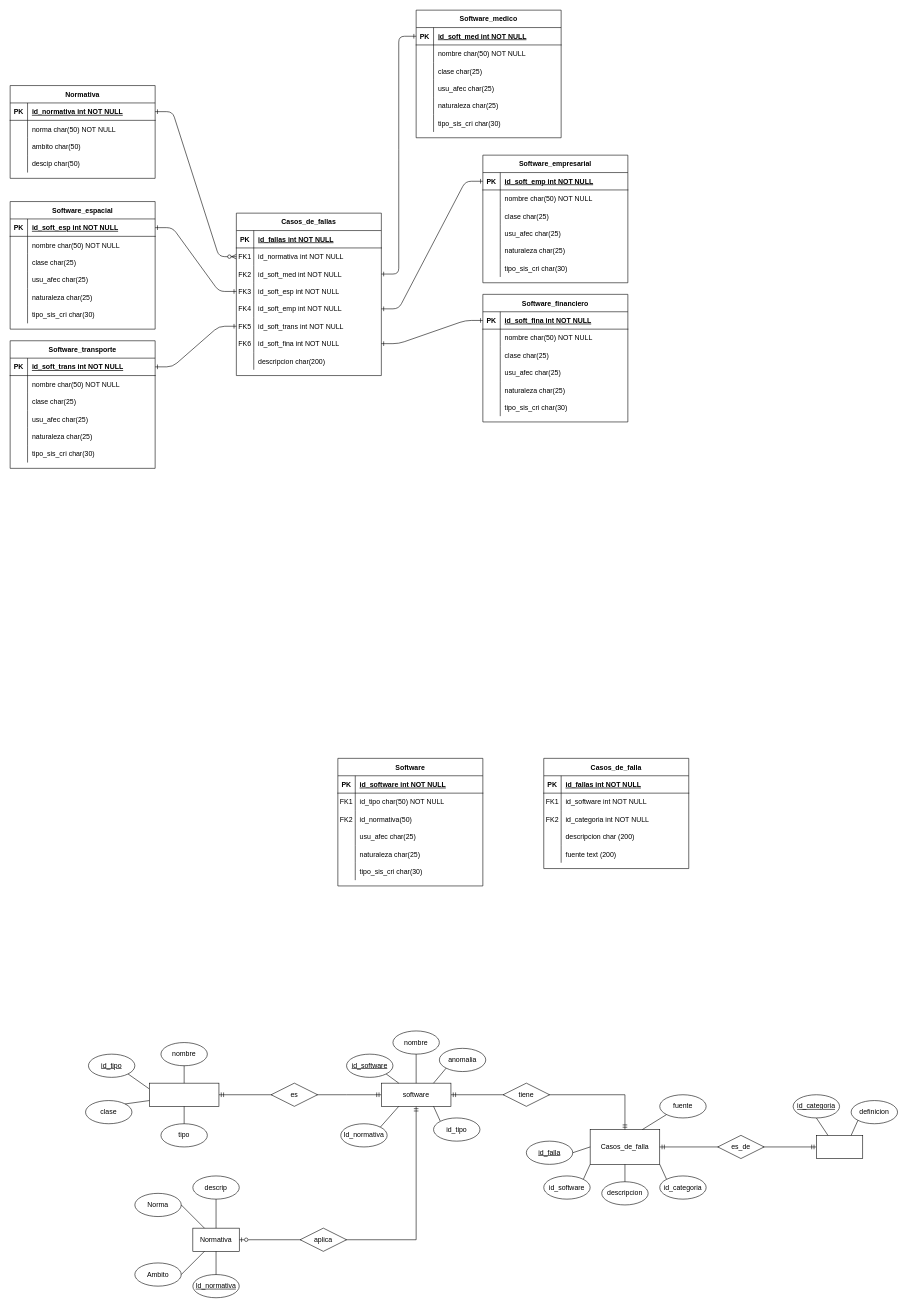
Image size: 908x1308. Some labels were removed from this diagram. Here are the shapes that lost their labels. From the top down, the centre of each, then its label:
the point at 184,1094: tipo_software
the point at 839,1147: Naturaleza
